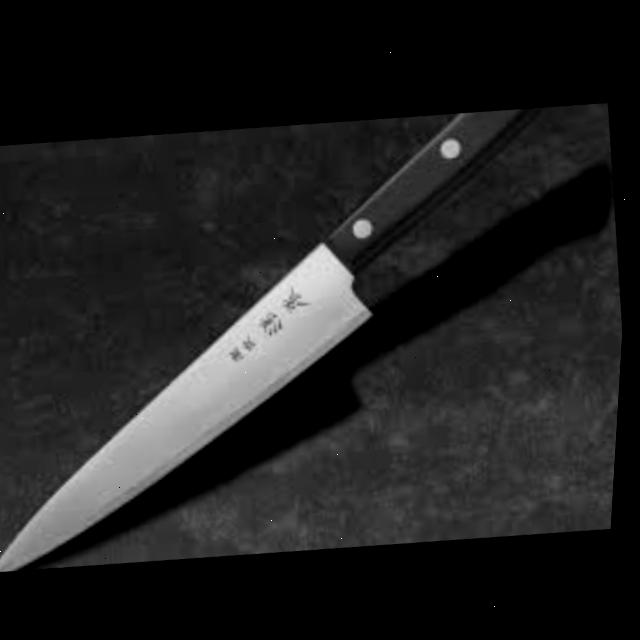Knife: (0, 77, 601, 595)
